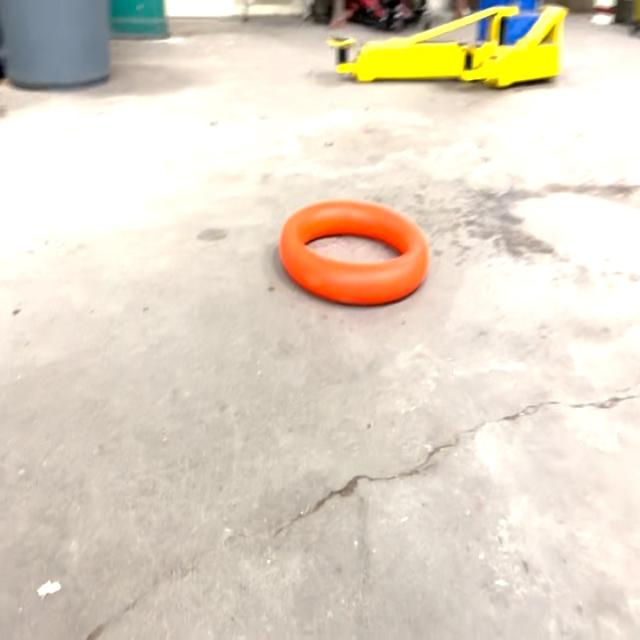note: (280, 198, 430, 314)
